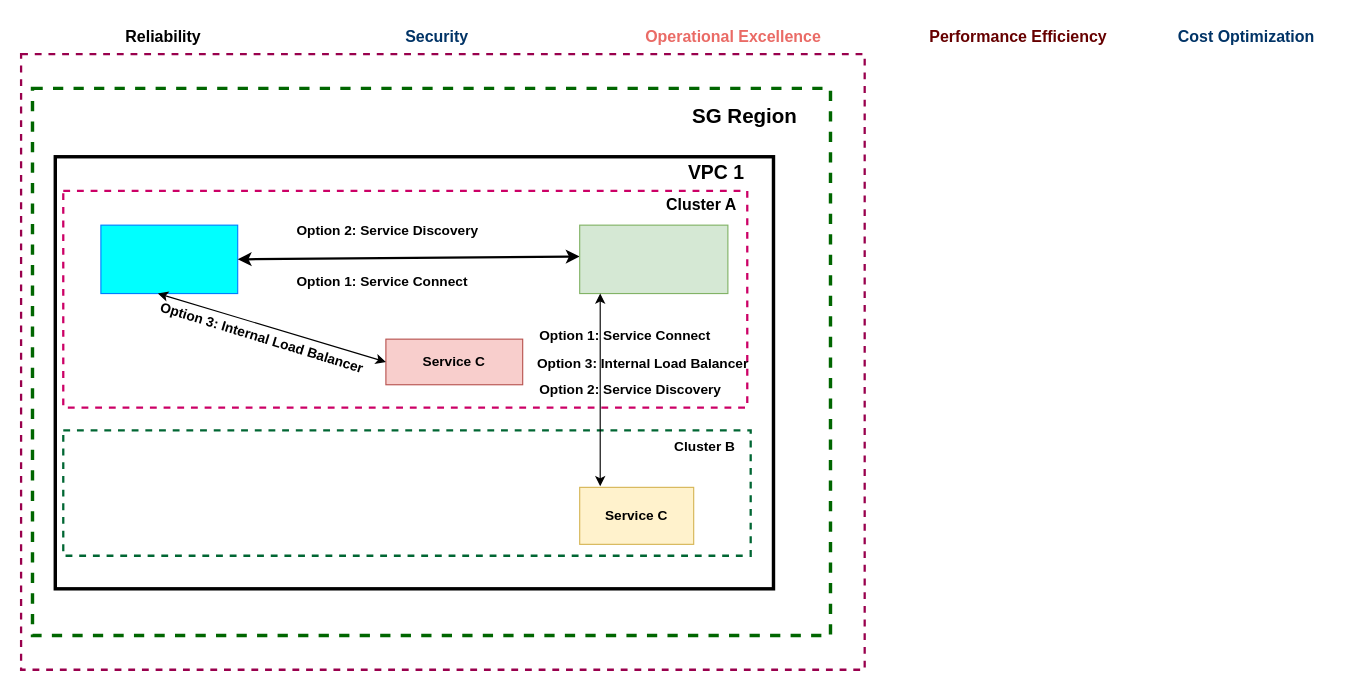
Some shapes in this 1351 by 690 pixel diagram are drawn without their labels. Here are the shapes that lost their labels. From the top down, the centre of each, then its label:
point 169,259: Service A
point 653,259: Service B
